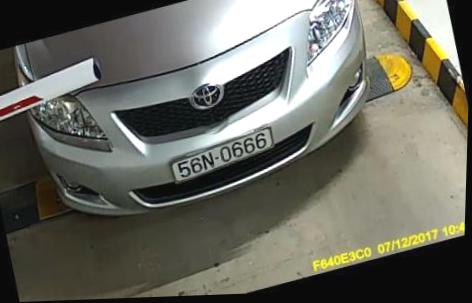License_Plate: (159, 121, 291, 187)
